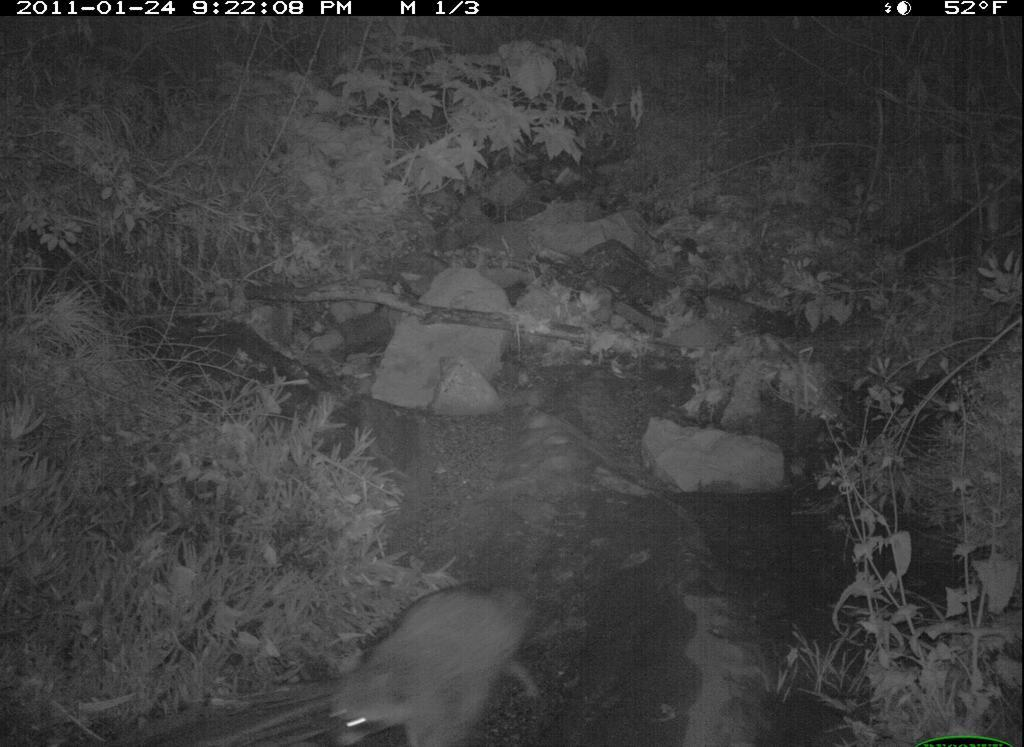raccoon: (327, 578, 546, 747)
